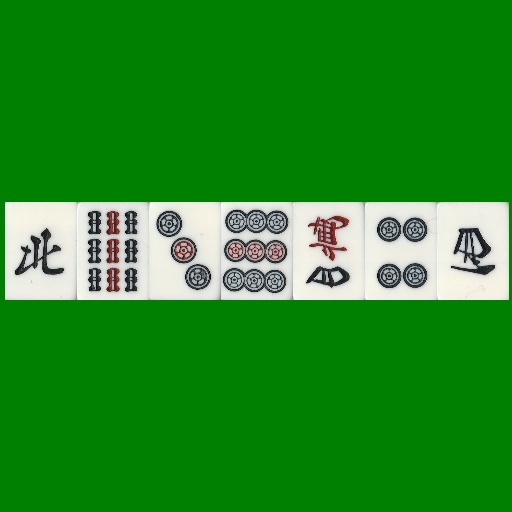3p: (149, 202, 221, 300)
4m: (293, 202, 365, 300)
4p: (365, 202, 437, 300)
9p: (221, 202, 293, 300)
9s: (77, 202, 149, 300)
north: (5, 202, 77, 300)
west: (437, 202, 509, 300)
